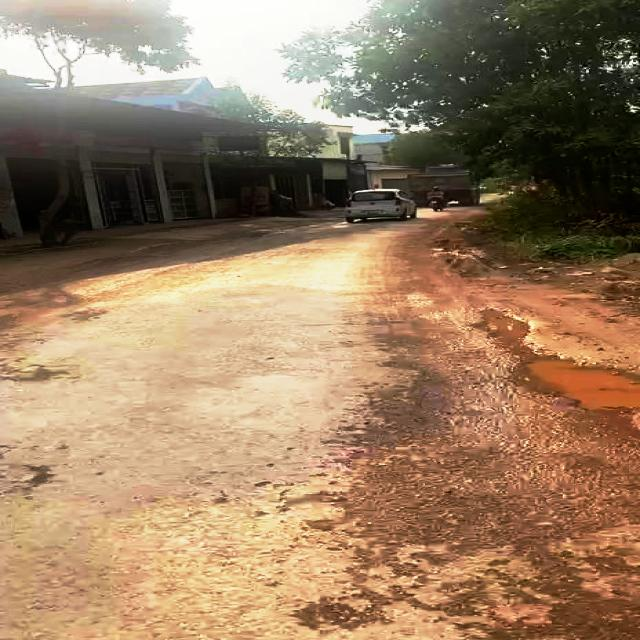pothole: (470, 304, 640, 420)
